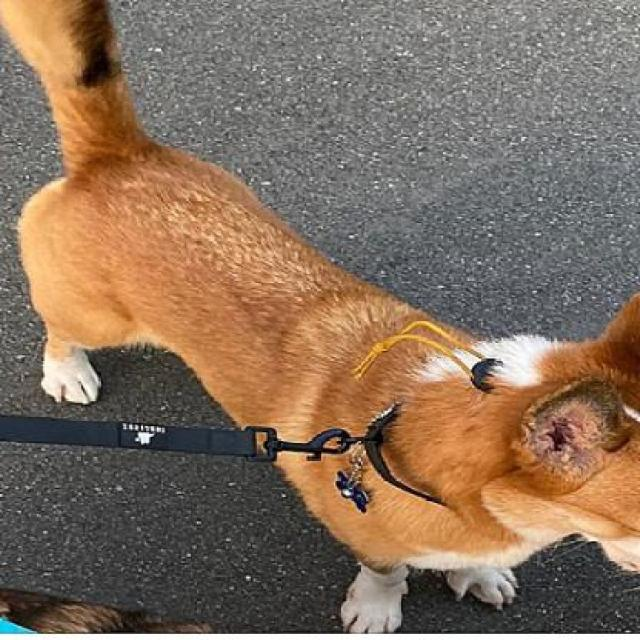Dog: (1, 0, 638, 634)
